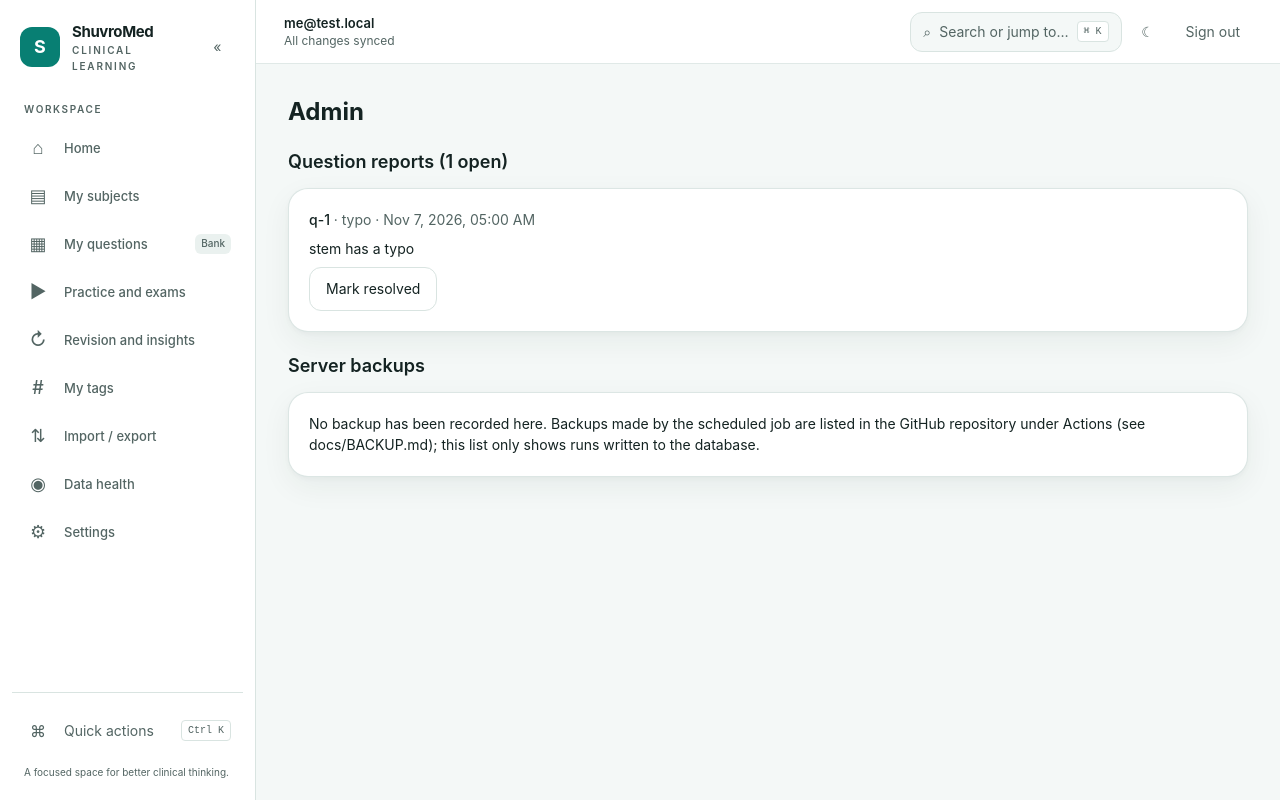
Test case: admin page › shows the database refusal instead of pretending when updating fails
Click the button "Mark resolved".
click(373, 289)  # box [309,267,437,311]
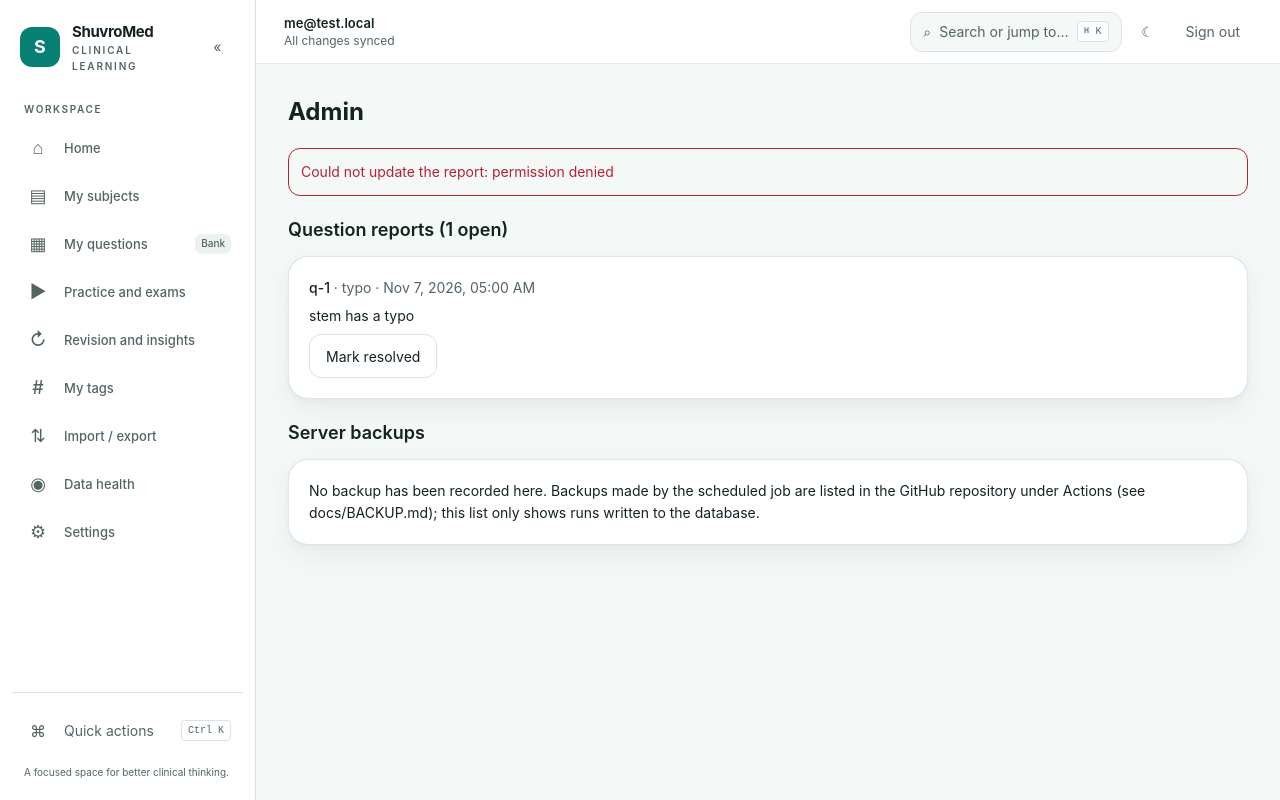
Now the message "Could not update the report: permission denied" is shown, box [288,148,1248,196]
